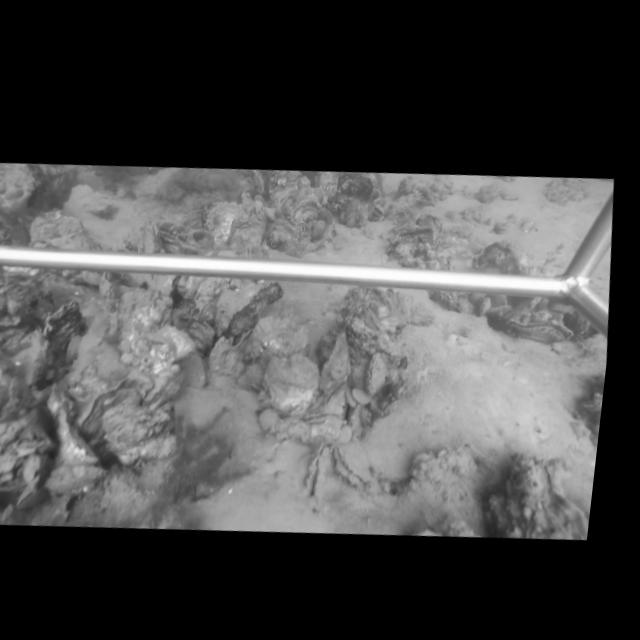Oyster-Closed: (215, 279, 287, 336), (49, 396, 100, 468), (502, 316, 574, 342), (365, 349, 390, 397), (180, 351, 212, 387), (315, 382, 346, 412), (137, 219, 160, 253), (15, 486, 43, 509), (296, 413, 347, 424), (476, 296, 492, 315)
Oyster-Indeterminate: (264, 353, 320, 415), (319, 333, 354, 391)
Oyster-Open: (76, 376, 146, 437), (332, 441, 373, 494), (304, 445, 330, 515)
